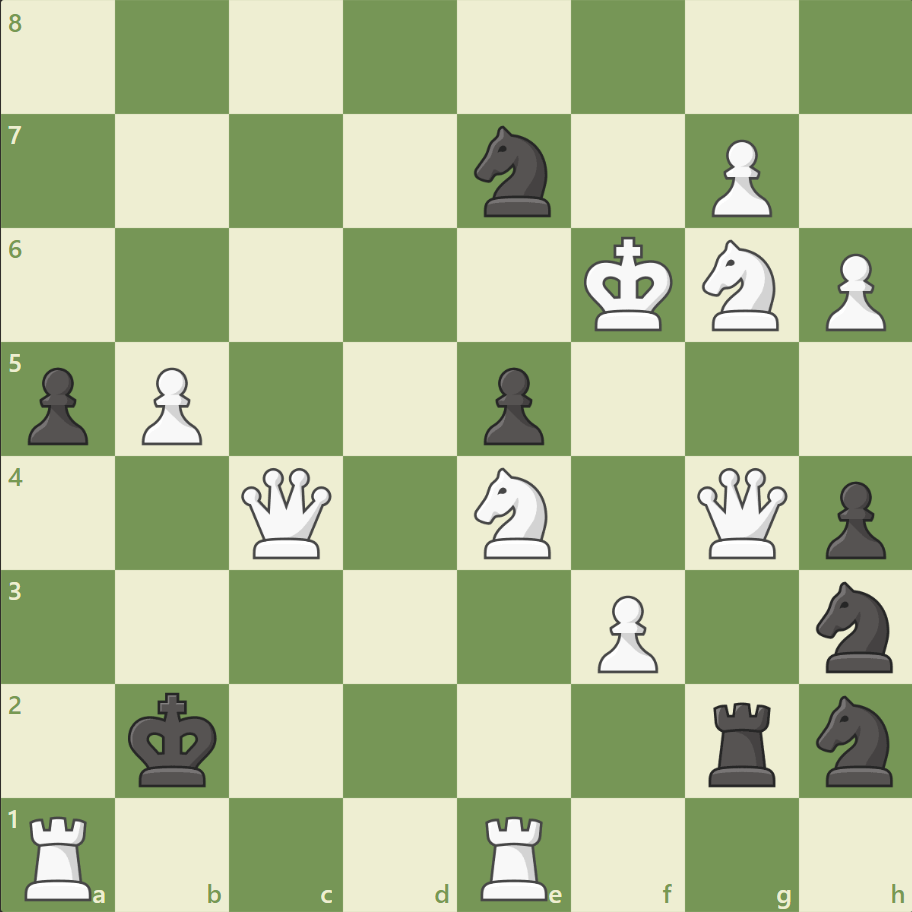K: (579, 231, 679, 339)
N: (692, 234, 789, 337), (465, 461, 562, 564)
P: (701, 132, 776, 223), (133, 359, 208, 450), (815, 246, 889, 337), (588, 586, 662, 677)
Q: (237, 463, 336, 562), (691, 463, 790, 562)
R: (19, 806, 102, 904), (473, 806, 556, 904)
k: (124, 685, 224, 793)
n: (806, 688, 903, 791), (465, 121, 562, 223), (806, 575, 903, 677)
p: (20, 359, 95, 450), (474, 359, 549, 450), (815, 473, 889, 564)
r: (700, 693, 783, 790)
